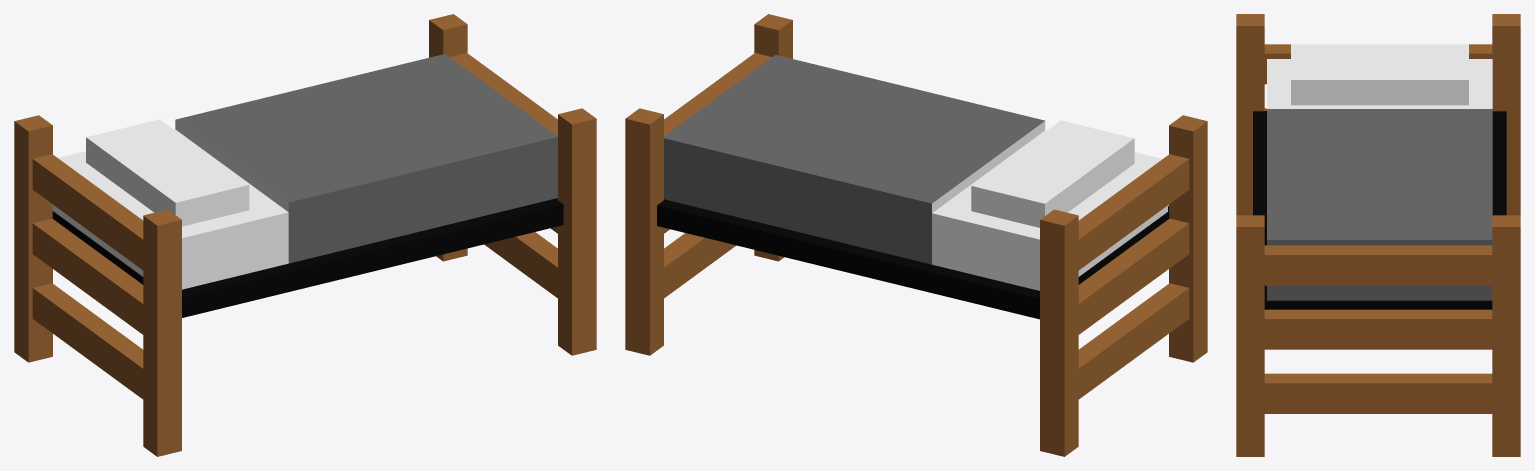
File: bed.fbx
3 views of the same model, side by side, from view 1: azimuth 30°, elevation 25°; view 2: azimuth 150°, elevation 25°; view 3: azimuth 270°, elevation 25° (orthographic).
Parts seen in each view (by area): view 1: Cube, Cube.012, Cube.001, Cube.007, Cube.002, Cube.008, Cube.009, Cube.011, Cube.010, Cube.005, Cube.004, Cube.003; view 2: Cube, Cube.012, Cube.001, Cube.008, Cube.003, Cube.007, Cube.009, Cube.011, Cube.010, Cube.005, Cube.004, Cube.002; view 3: Cube, Cube.001, Cube.004, Cube.005, Cube.006, Cube.002, Cube.003, Cube.012, Cube.007, Cube.008, Cube.009.
Part boxes in pixels (x1,y1,x2,y2): Cube: (52,54,557,289); Cube.012: (52,198,563,317); Cube.001: (86,119,249,226); Cube.007: (143,209,181,456); Cube.002: (558,108,596,355); Cube.008: (14,115,52,362); Cube.009: (32,154,143,270); Cube.011: (32,218,143,334); Cube.010: (32,283,143,399); Cube.005: (484,232,557,298); Cube.004: (450,53,557,135); Cube.003: (429,14,467,261); Cube: (664,55,1167,290); Cube.012: (657,199,1169,319); Cube.001: (971,120,1134,227); Cube.008: (1040,209,1078,456); Cube.003: (625,108,663,355); Cube.007: (1169,115,1207,362); Cube.009: (1078,154,1189,270); Cube.011: (1078,218,1189,334); Cube.010: (1078,283,1189,399); Cube.005: (664,233,736,298); Cube.004: (664,53,771,135); Cube.002: (754,14,792,261); Cube: (1267,59,1492,300); Cube.001: (1291,44,1468,105); Cube.004: (1264,245,1492,285); Cube.005: (1264,373,1492,413); Cube.006: (1264,309,1492,349); Cube.002: (1236,215,1264,456); Cube.003: (1492,215,1520,456); Cube.012: (1253,111,1506,309); Cube.007: (1236,14,1264,215); Cube.008: (1492,14,1520,215); Cube.009: (1264,44,1492,84).
Bounding box in the file's own units: 895 × 450 × 504.
